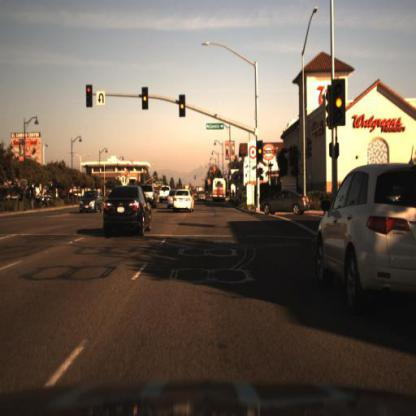car: (314, 161, 416, 315), (102, 181, 152, 240), (257, 188, 310, 221), (74, 186, 103, 217), (171, 189, 196, 212), (157, 181, 169, 204), (193, 188, 207, 205)
trafficLight-RedLeft: (84, 82, 92, 114)
trafficLight-Yellow: (330, 76, 345, 125), (333, 78, 344, 128), (174, 93, 186, 118), (140, 88, 149, 113), (256, 141, 264, 163), (256, 141, 263, 164)
truck: (210, 174, 228, 205), (210, 176, 226, 202)
